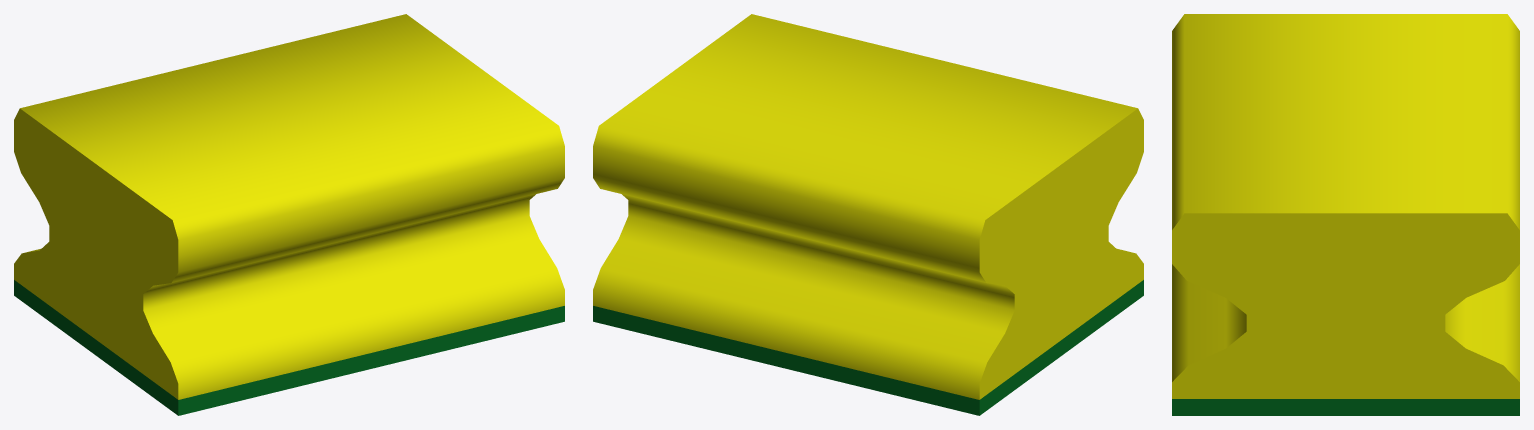
The model's file is Schwamm.fbx.
3 views of the same model, side by side, from view 1: azimuth 30°, elevation 25°; view 2: azimuth 150°, elevation 25°; view 3: azimuth 270°, elevation 25° (orthographic). The views are drawn at different scales.
Visible parts, largest first — view 1: Cube; view 2: Cube; view 3: Cube.
Boxes of the visible parts, left/top/right/bottom form: Cube: left=14, top=14, right=564, bottom=415; Cube: left=593, top=14, right=1143, bottom=415; Cube: left=1172, top=14, right=1519, bottom=415.
Bounding box in the file's own units: 9.5 × 4.5 × 7.
